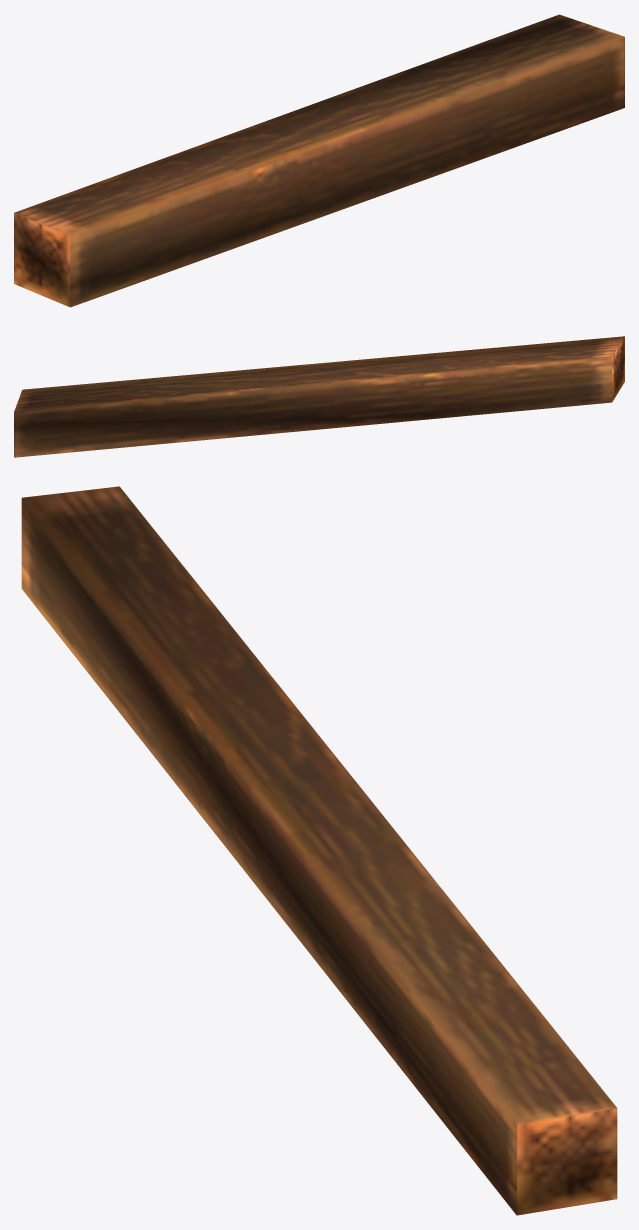
Rendered from SWORDLIGHT20_JAILBRACE51.fbx.
3 renders of one model, top to bottom at view 1: azimuth 30°, elevation 25°; view 2: azimuth 150°, elevation 25°; view 3: azimuth 270°, elevation 25°, orthographic. The views are drawn at different scales.
Visible parts, largest first — view 1: SWORDLIGHT20_JAILBRACE51; view 2: SWORDLIGHT20_JAILBRACE51; view 3: SWORDLIGHT20_JAILBRACE51.
Boxes of the visible parts, x1,y1,x2,y2 form: SWORDLIGHT20_JAILBRACE51: (14,14,624,307); SWORDLIGHT20_JAILBRACE51: (14,336,624,457); SWORDLIGHT20_JAILBRACE51: (21,486,617,1215).
Bounding box in the file's own units: 45075 × 10994 × 23700.
1 material, 1 textured.
